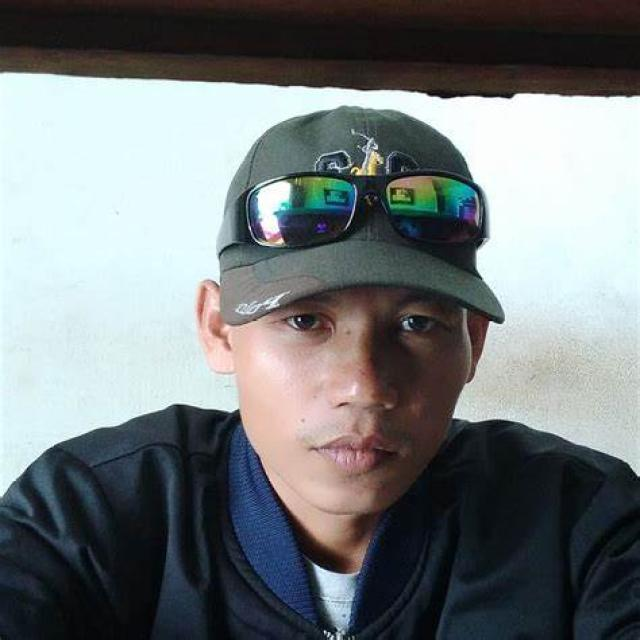illegal_helmet: (196, 97, 510, 522)
